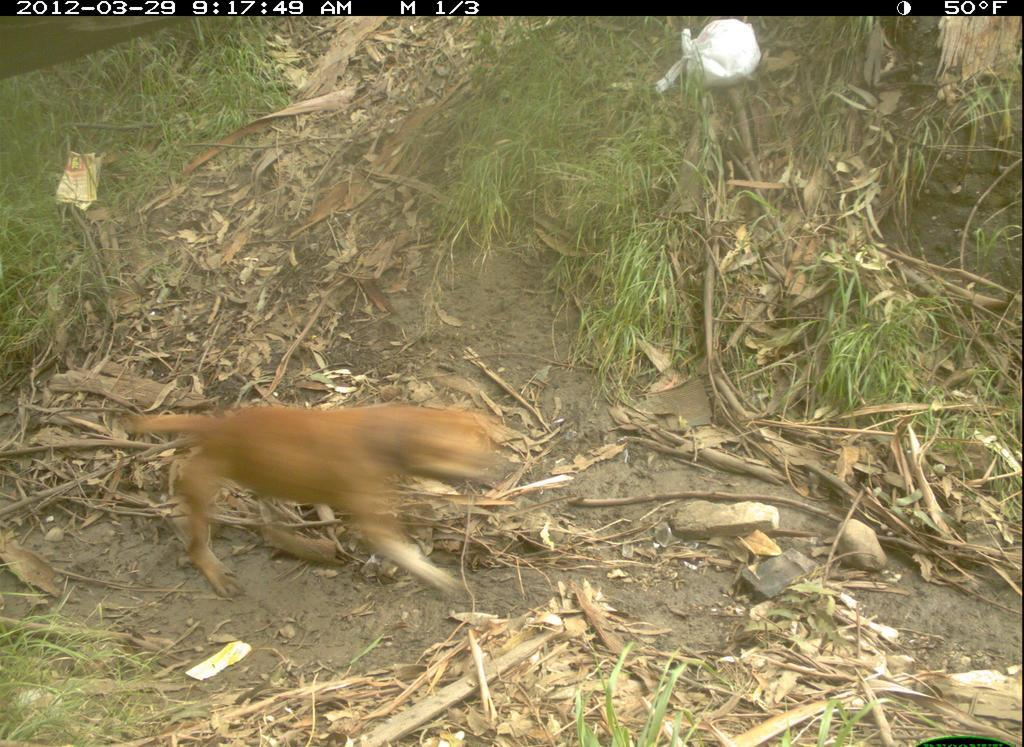dog: (121, 401, 514, 602)
